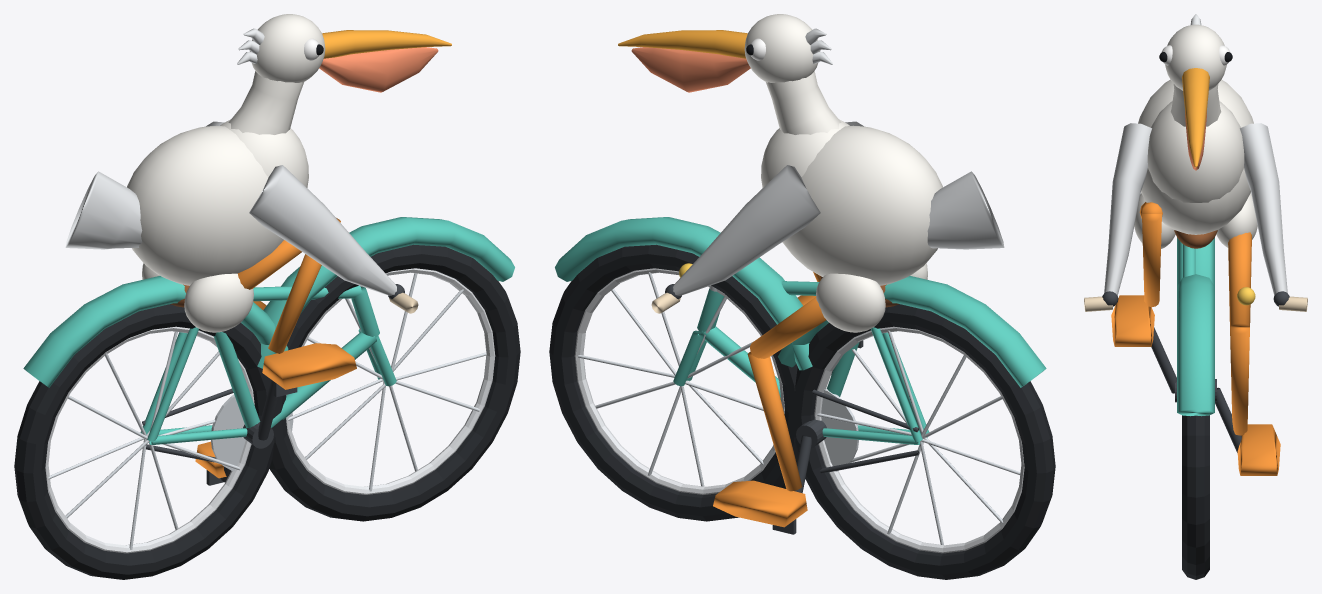
The model's file is pelican_bike.glb.
The picture shows the model from 3 angles, left to right: view 1: azimuth 30°, elevation 25°; view 2: azimuth 150°, elevation 25°; view 3: azimuth 270°, elevation 25°; orthographic projection. The views are drawn at different scales.
Visible parts, largest first — view 1: WheelR, WheelF, Frame, Body, WingR, Tail, Head, Pouch, HipFluff.001, FootR, Neck, BeakUpper (+5 smaller); view 2: WheelR, WheelF, Frame, Body, WingL, Tail, Head, Pouch, HipFluff, FootL, Neck, LegLowL (+5 smaller); view 3: Frame, Chest, Body, WheelF, WingL, WingR, Head, FootR, FootL, LegLowL, LegUpL, BeakUpper (+6 smaller).
Boxes of the visible parts, <box> form: WheelR: <box>14,304,276,579</box>; WheelF: <box>269,244,520,521</box>; Frame: <box>23,217,514,444</box>; Body: <box>127,125,283,285</box>; WingR: <box>249,165,396,295</box>; Tail: <box>65,171,142,249</box>; Head: <box>249,14,325,82</box>; Pouch: <box>319,47,438,92</box>; HipFluff.001: <box>184,273,253,332</box>; FootR: <box>262,343,356,389</box>; Neck: <box>228,71,303,134</box>; BeakUpper: <box>322,30,451,58</box>; WheelR: <box>793,304,1055,579</box>; WheelF: <box>549,244,797,521</box>; Frame: <box>555,217,1046,444</box>; Body: <box>782,125,942,285</box>; WingL: <box>673,165,820,295</box>; Tail: <box>927,171,1004,249</box>; Head: <box>744,14,820,82</box>; Pouch: <box>631,47,750,92</box>; HipFluff: <box>816,273,885,332</box>; FootL: <box>713,480,807,527</box>; Neck: <box>766,71,841,134</box>; LegLowL: <box>747,352,802,491</box>; Frame: <box>1084,237,1307,416</box>; Chest: <box>1147,101,1244,202</box>; Body: <box>1138,79,1253,234</box>; WheelF: <box>1182,415,1209,579</box>; WingL: <box>1240,123,1287,295</box>; WingR: <box>1104,123,1151,295</box>; Head: <box>1165,24,1226,90</box>; FootR: <box>1111,295,1154,346</box>; FootL: <box>1237,424,1280,475</box>; LegLowL: <box>1230,327,1249,435</box>; LegUpL: <box>1228,232,1251,327</box>; BeakUpper: <box>1182,68,1209,167</box>.
Size of the model in its own units: 1.3 by 1.3 by 0.5336.
